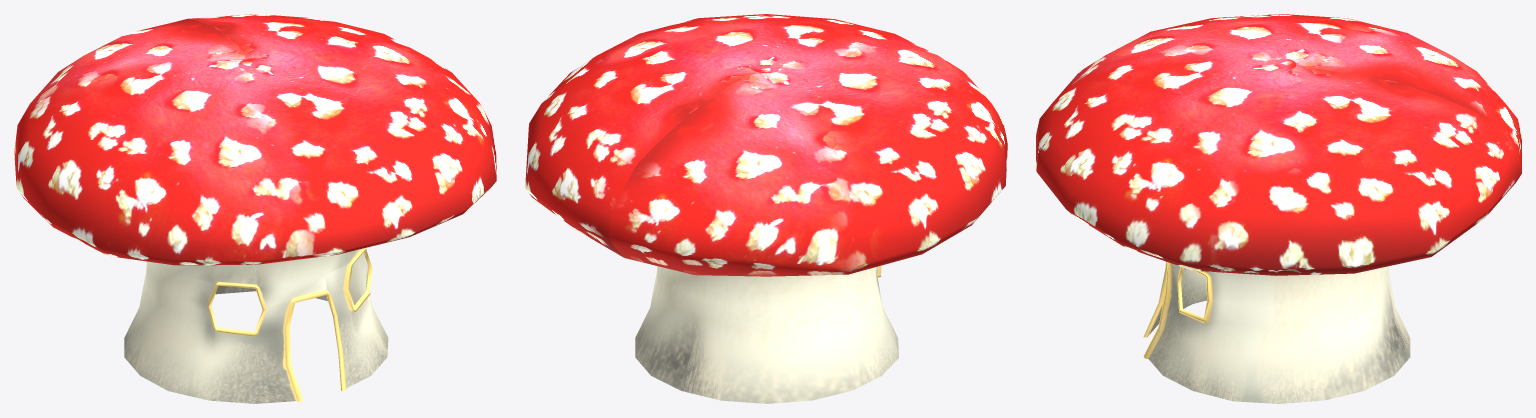
3 renders of one model, left to right at view 1: azimuth 30°, elevation 25°; view 2: azimuth 150°, elevation 25°; view 3: azimuth 270°, elevation 25°, orthographic.
Visible parts, largest first — view 1: mashroom hous; view 2: mashroom hous; view 3: mashroom hous.
Boxes of the visible parts, bbox=[...] form: mashroom hous: bbox=[14, 14, 496, 403]; mashroom hous: bbox=[525, 14, 1007, 403]; mashroom hous: bbox=[1036, 14, 1521, 403].
Size of the model in its own units: 8.67 by 5.55 by 8.64.
1 material, 1 textured.
